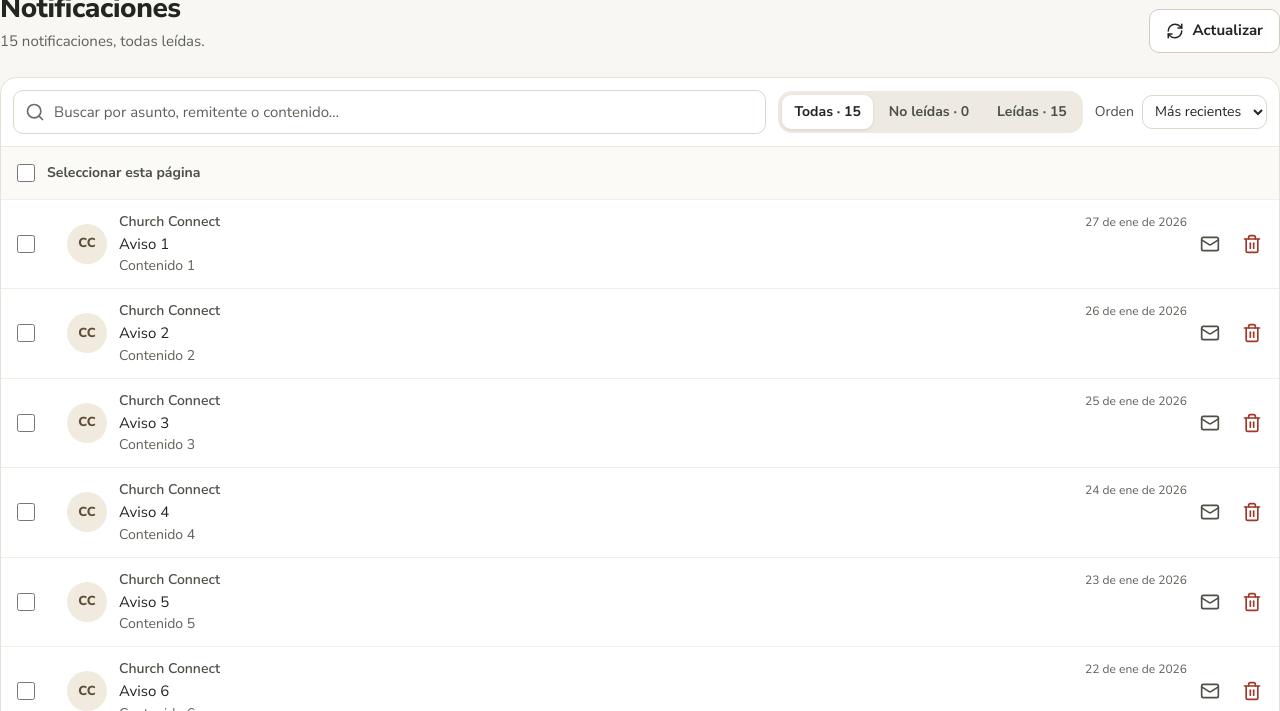
Bandeja: selección entre páginas › conserva lo seleccionado al cambiar de página y aplica la acción a todo
Expected: the text "Aviso 1" is shown, [119,234,169,254]
# Las 10 de la primera página…
Click the checkbox labelled "Seleccionar esta página": {"x": 26, "y": 172} [17,164,35,182]
(page scrolled)
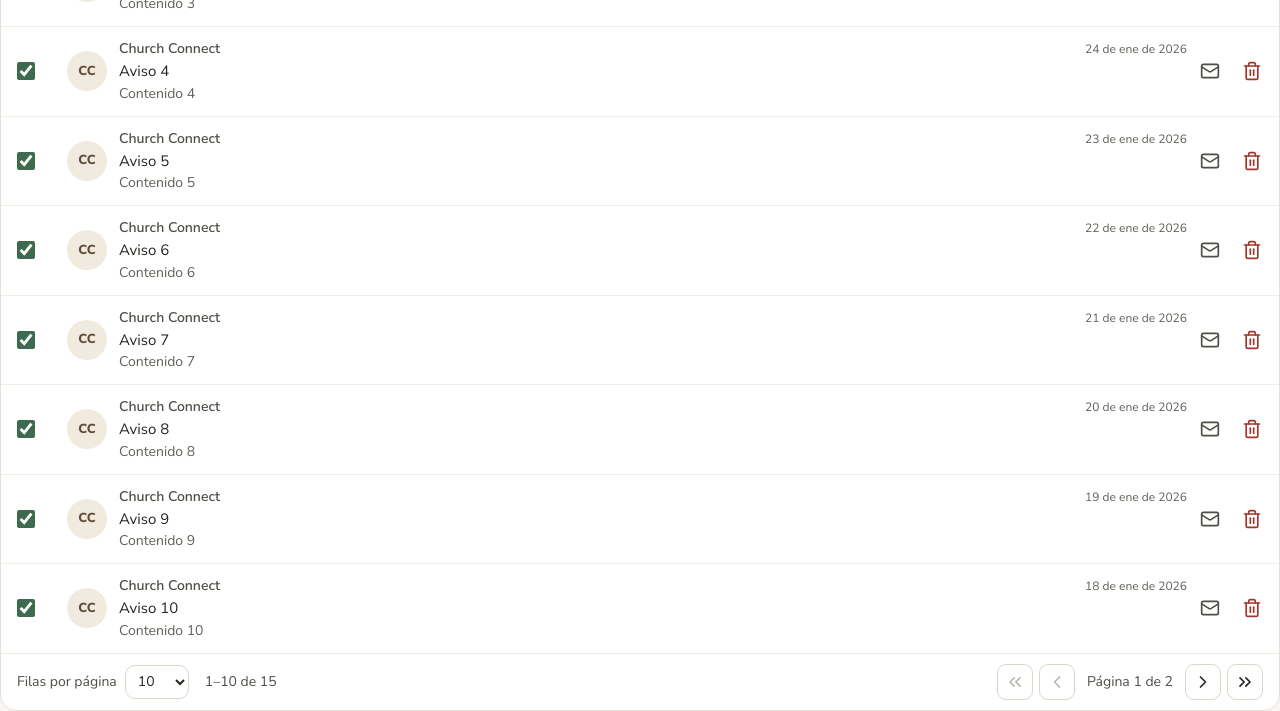
# …y dos de la segunda.
Click the button named "Página siguiente": {"x": 1203, "y": 682} [1185,664,1221,700]
(page scrolled)
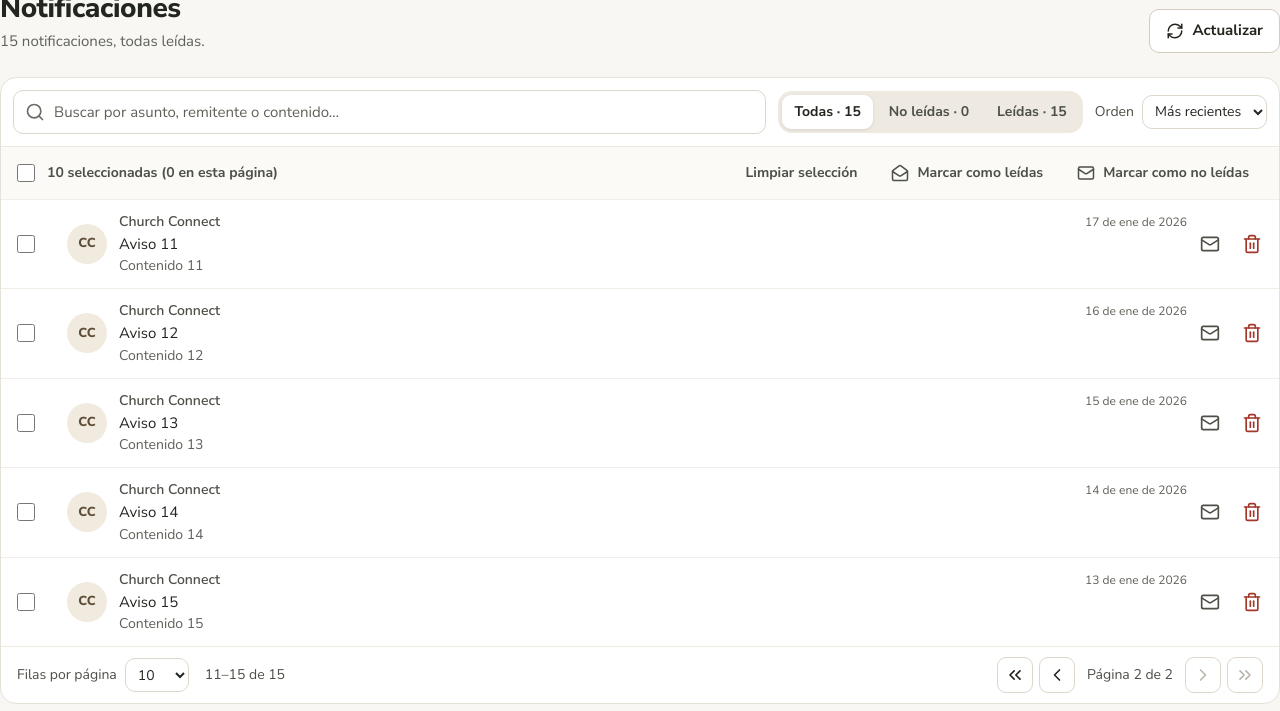
Click the checkbox named "Seleccionar: Aviso 11": {"x": 26, "y": 244} [17,235,35,253]
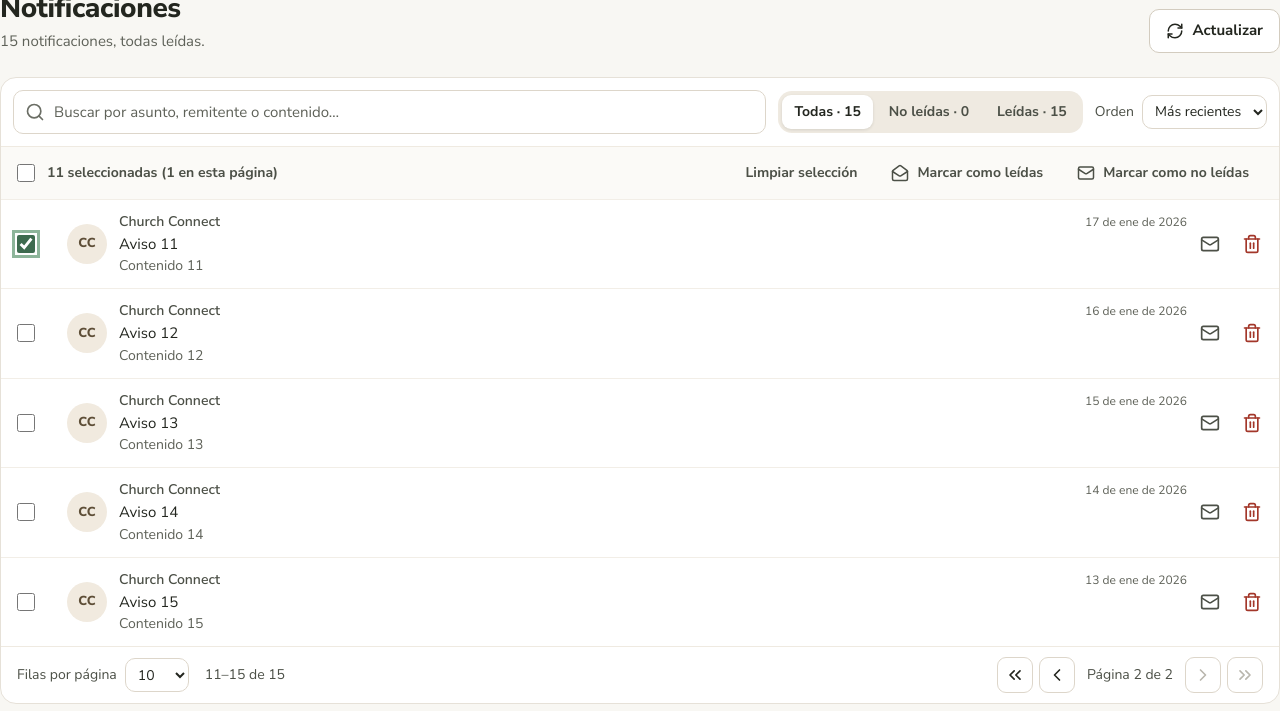
Click the checkbox named "Seleccionar: Aviso 12": {"x": 26, "y": 333} [17,324,35,342]
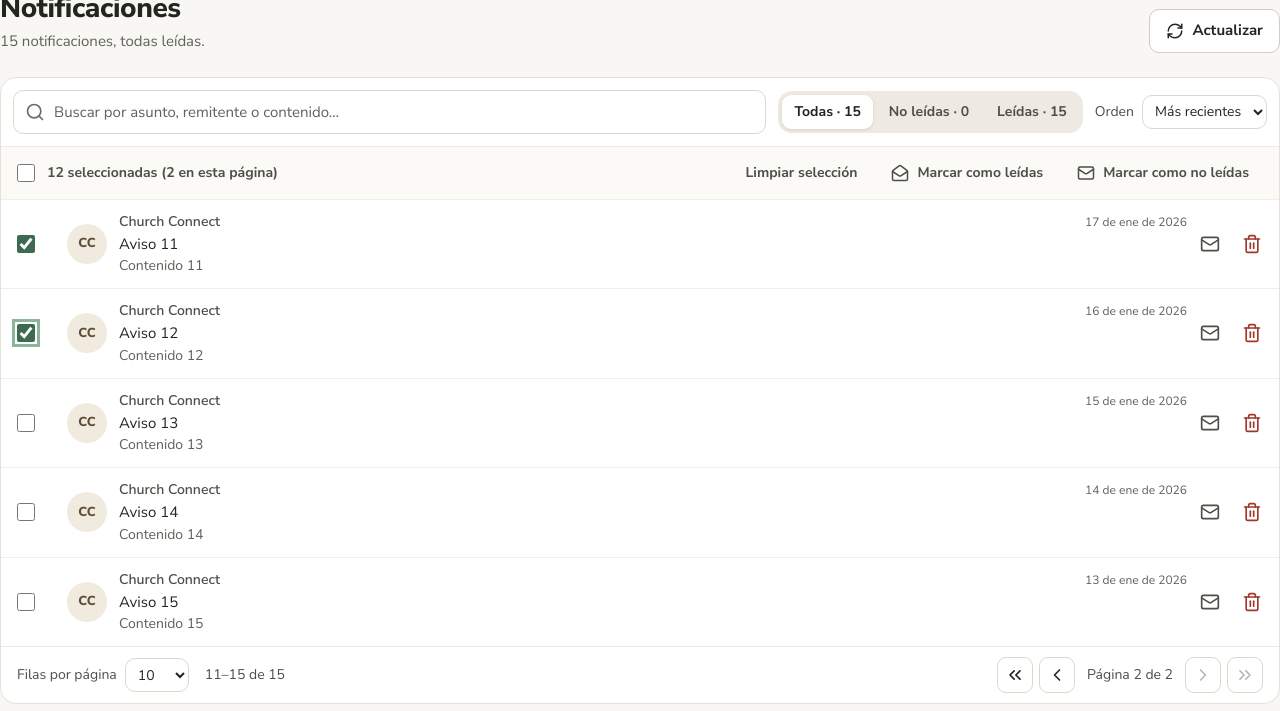
Now the text "12 seleccionadas (2 en esta página)" is shown, box [17,162,278,182]
Click the button "Marcar como no leídas": {"x": 1163, "y": 172} [1063,152,1263,192]
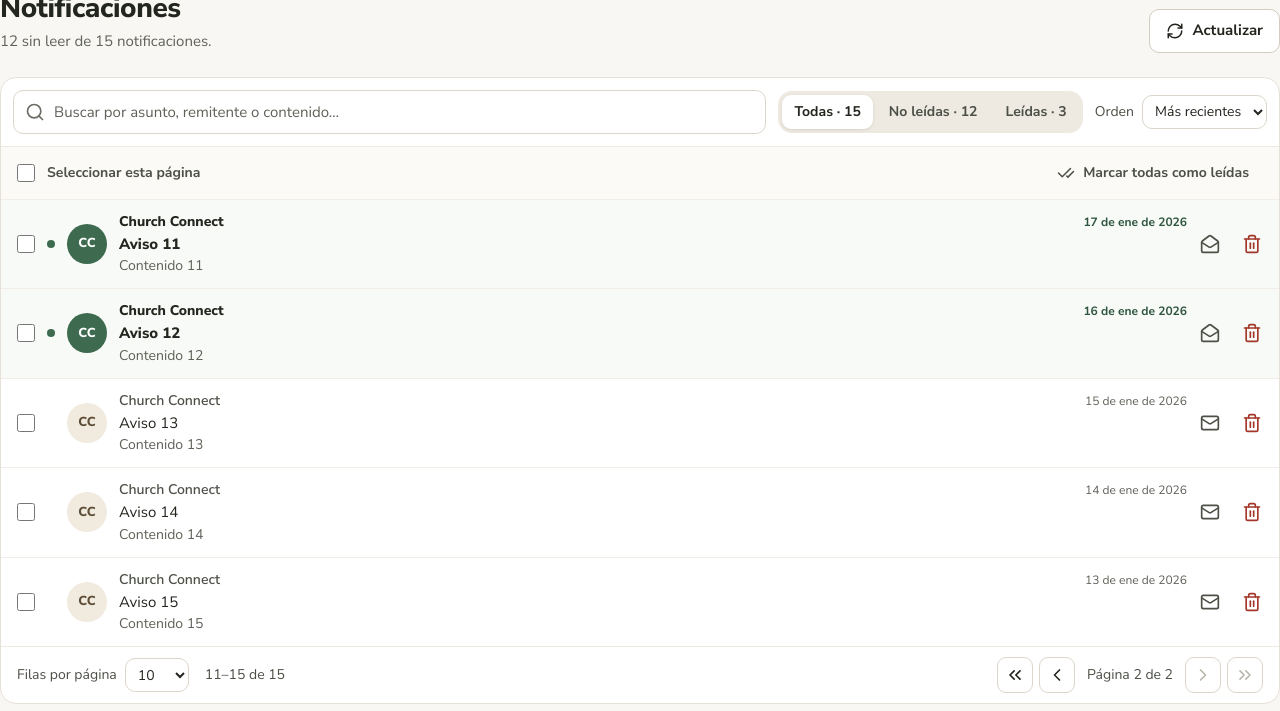
Now the text "12 sin leer de 15 notificaciones." is shown, box [0,30,212,52]
